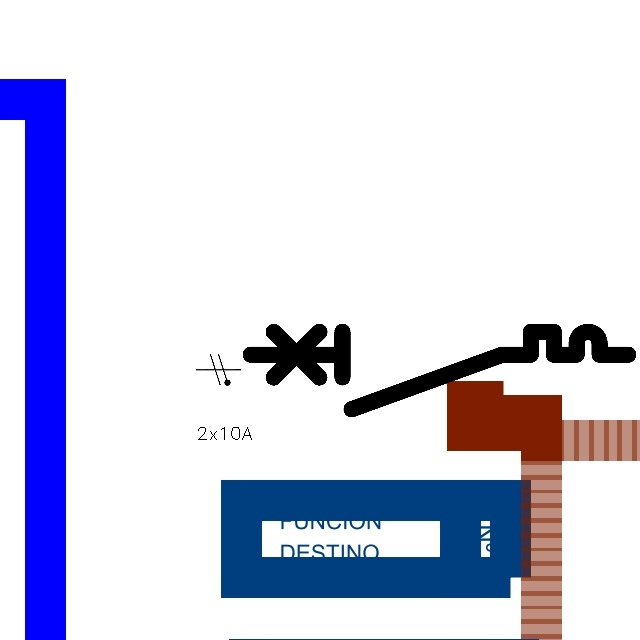interruptor_termomagnetico: (240, 322, 637, 419)
